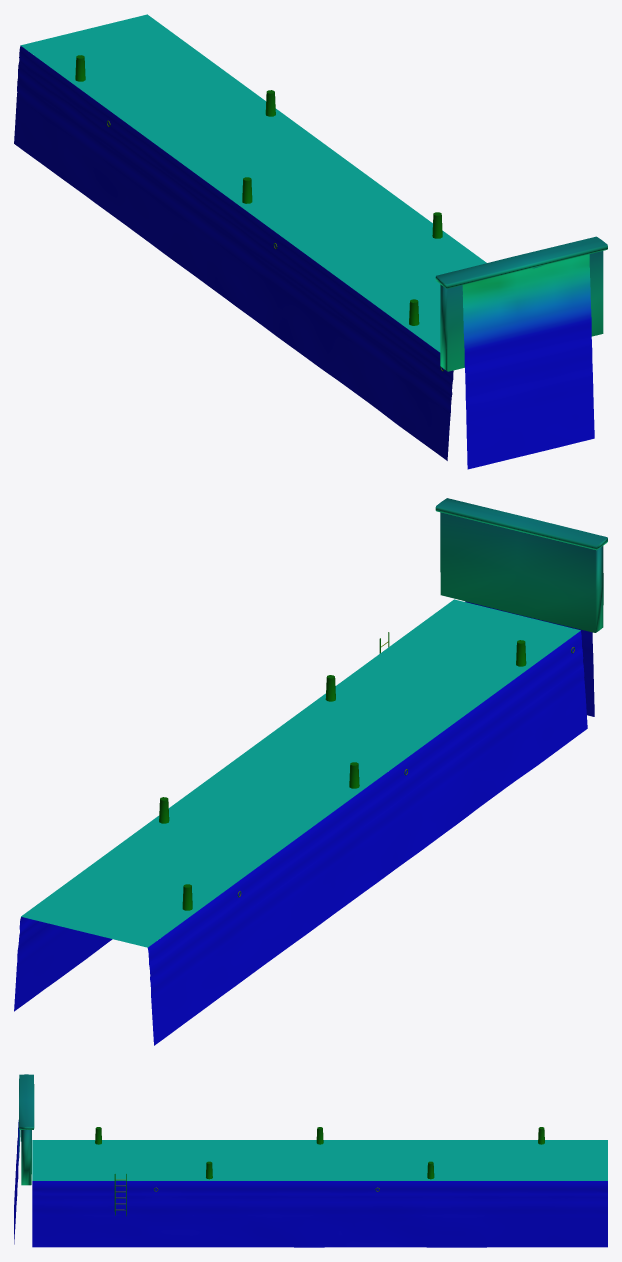
The model's file is mole_pier.glb.
3 renders of one model, top to bottom at view 1: azimuth 30°, elevation 25°; view 2: azimuth 150°, elevation 25°; view 3: azimuth 270°, elevation 25°, orthographic. The views are drawn at different scales.
Visible parts, largest first — view 1: mole_pier; view 2: mole_pier; view 3: mole_pier.
Part boxes in pixels (bbox=[...]): mole_pier: bbox=[14, 14, 607, 469]; mole_pier: bbox=[14, 498, 607, 1045]; mole_pier: bbox=[14, 1074, 607, 1247].
Size of what is drawn, in the model's own units: 5.6 by 6.2 by 26.82.
